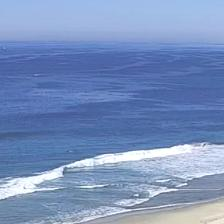surfer: (66, 150, 74, 154)
